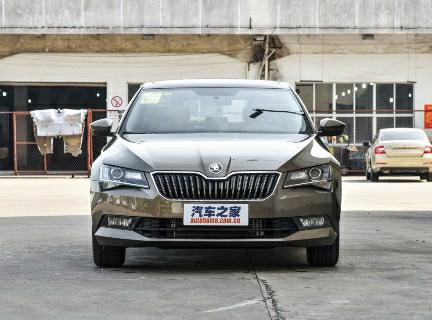car: (77, 78, 349, 279), (357, 120, 430, 182)
